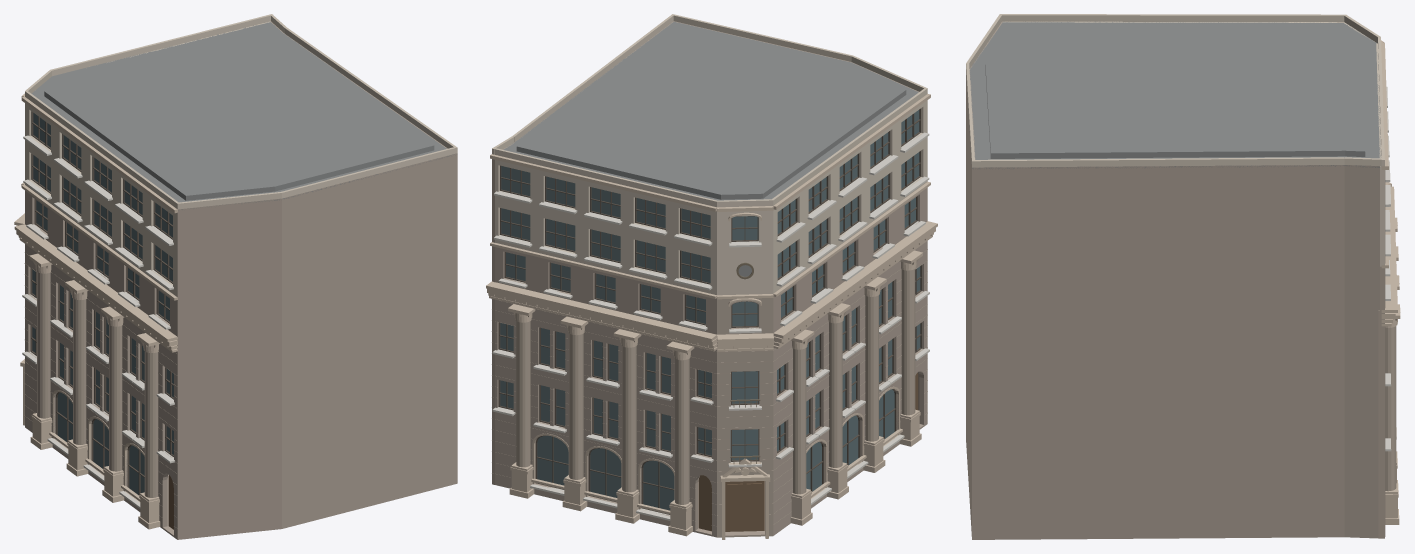
The model's file is huangpu-deutsch-asiatische-bank-lod.glb.
3 renders of one model, left to right at view 1: azimuth 30°, elevation 25°; view 2: azimuth 150°, elevation 25°; view 3: azimuth 270°, elevation 25°, orthographic. The views are drawn at different scales.
Visible parts, largest first — view 1: 江川大楼（德华银行九江路营业楼）; view 2: 江川大楼（德华银行九江路营业楼）; view 3: 江川大楼（德华银行九江路营业楼）.
Boxes of the visible parts, bbox=[...] form: 江川大楼（德华银行九江路营业楼）: bbox=[14, 14, 457, 539]; 江川大楼（德华银行九江路营业楼）: bbox=[486, 14, 937, 539]; 江川大楼（德华银行九江路营业楼）: bbox=[966, 14, 1400, 539].
Size of the model in its own units: 22.83 by 26.25 by 27.25.
